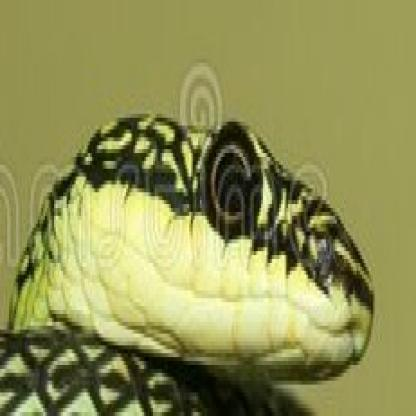Snake: (0, 94, 376, 412)
